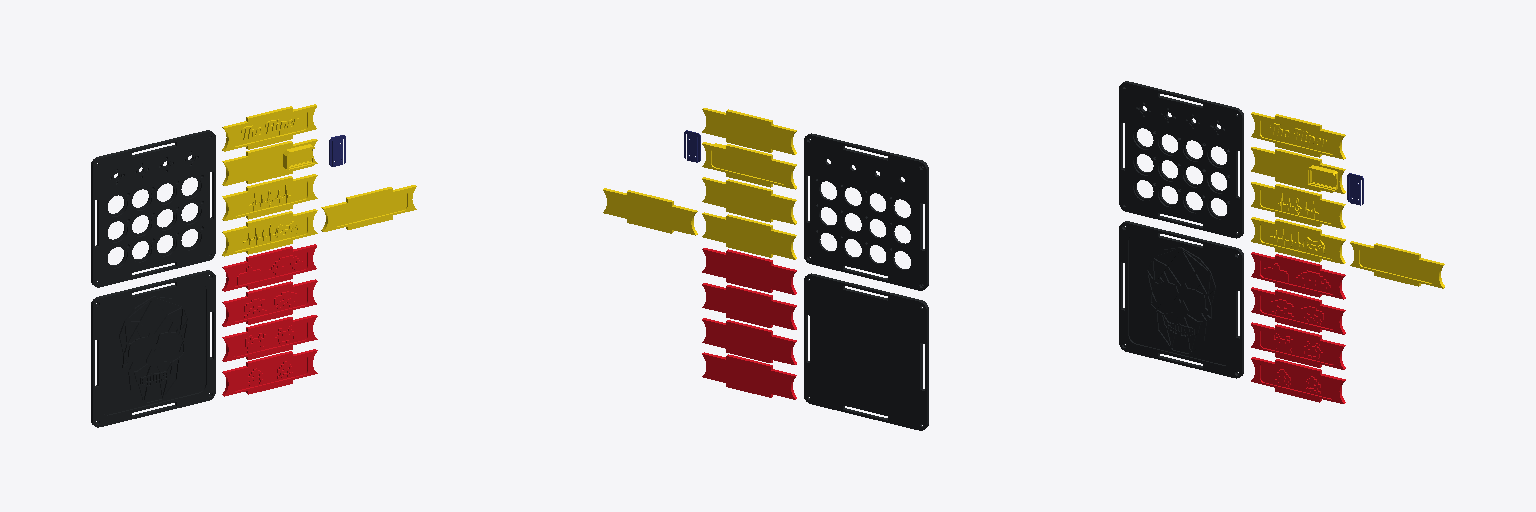
The model's file is tinker.obj.
3 views of the same model, side by side, from view 1: azimuth 30°, elevation 25°; view 2: azimuth 150°, elevation 25°; view 3: azimuth 330°, elevation 25° (orthographic).
Visible parts, largest first — view 1: obj_0; view 2: obj_0; view 3: obj_0.
Part boxes in pixels (bbox=[...]): obj_0: bbox=[91, 104, 416, 427]; obj_0: bbox=[603, 108, 928, 430]; obj_0: bbox=[1119, 81, 1444, 403].
Bounding box in the file's own units: 434 × 353 × 15.5.